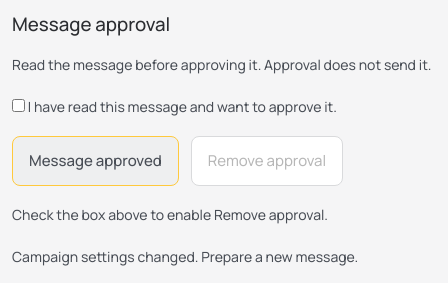
Test case: old campaign version blocks approval but permits revoking an existing approval
Later steps or results of the test are not shown.
Click the checkbox labelled "I have read this message and want to approve it." at (18, 106), box left=12, top=99, right=25, bottom=112
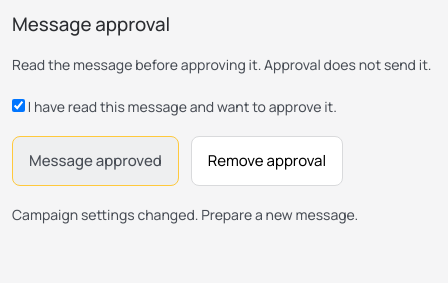
expect the button "Message approved" is disabled: met, box left=12, top=136, right=179, bottom=186
expect the button "Remove approval" is enabled: met, box left=191, top=136, right=343, bottom=186
